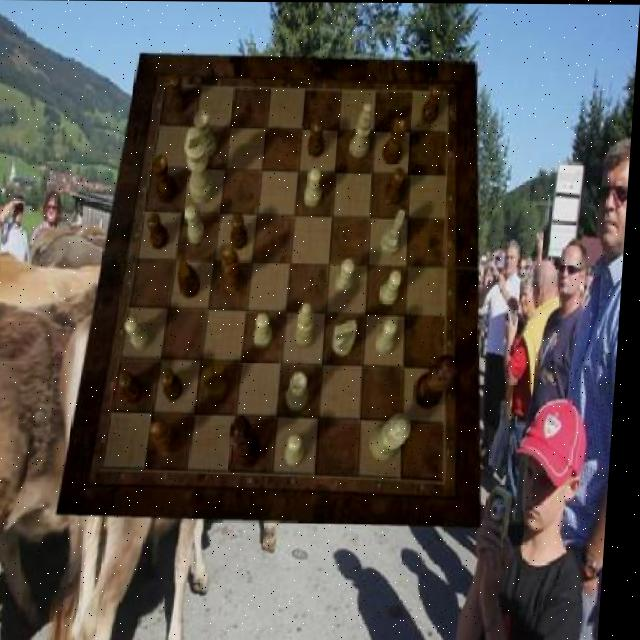bishop: (223, 245, 249, 292), (155, 420, 187, 456)
black-bishop: (233, 415, 269, 470)
black-king: (176, 255, 205, 299), (205, 361, 235, 401)
black-knight: (147, 213, 172, 250), (167, 74, 190, 114), (423, 82, 445, 123), (386, 167, 408, 205), (122, 372, 148, 404), (164, 369, 188, 401), (232, 212, 252, 250), (309, 119, 328, 157)
black-pawn: (417, 353, 463, 408)
black-queen: (152, 155, 181, 204), (384, 116, 410, 164)
black-rook: (351, 102, 375, 158), (299, 300, 321, 346)
white-bishop: (183, 127, 220, 203)
white-king: (383, 208, 409, 254), (336, 319, 362, 357)
white-knight: (383, 270, 408, 305), (186, 206, 209, 244), (128, 318, 154, 350), (256, 313, 277, 349), (306, 168, 325, 207), (379, 318, 400, 352), (338, 259, 359, 293), (290, 434, 311, 467)
white-pawn: (374, 413, 417, 461)
white-queen: (193, 112, 220, 160), (290, 371, 314, 411)
